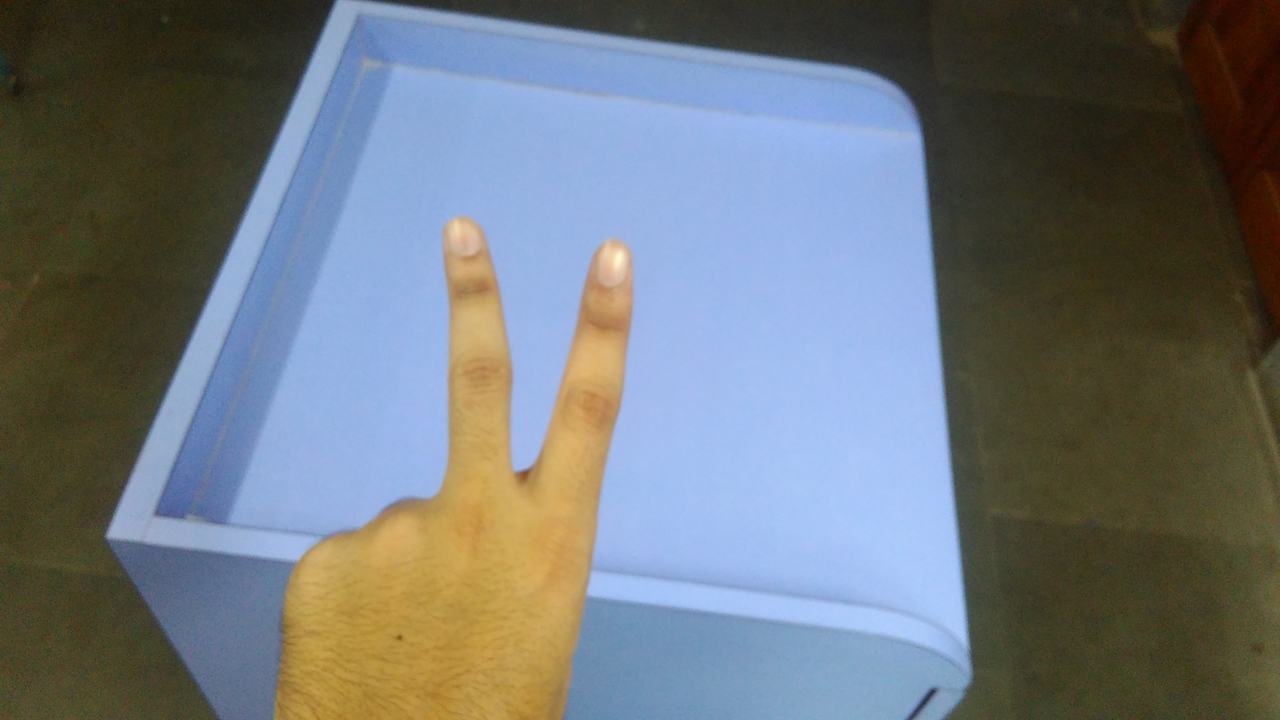fingertip: (578, 230, 642, 294), (430, 206, 496, 264)
